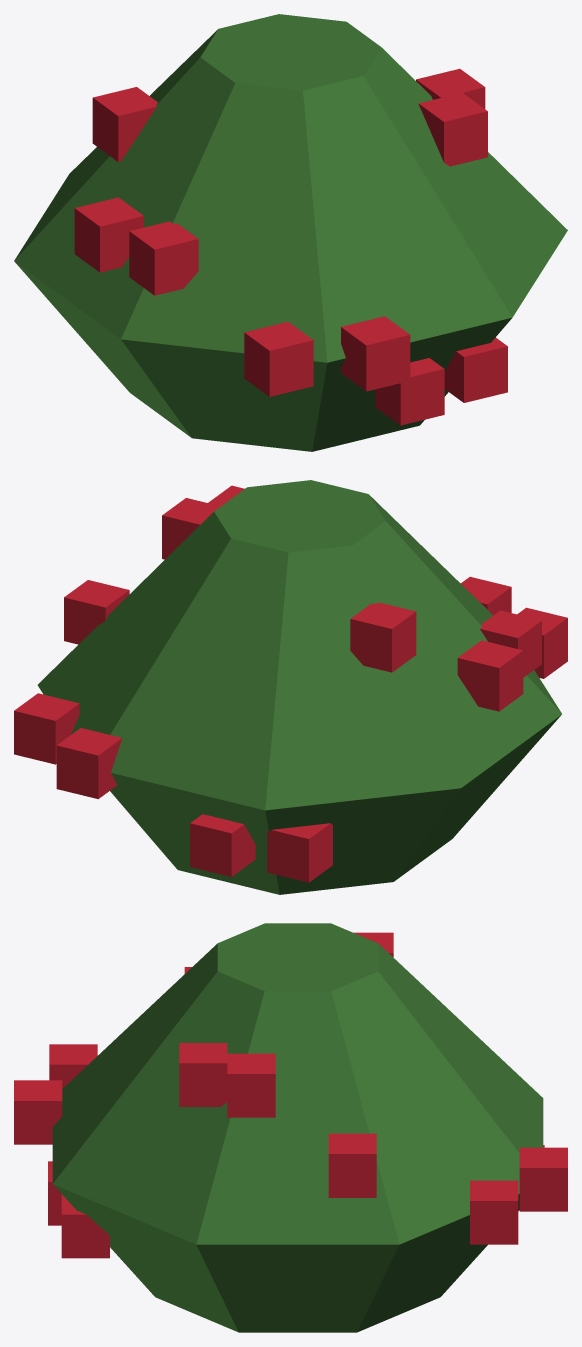
Rendered from berry_bush.obj.
3 renders of one model, top to bottom at view 1: azimuth 30°, elevation 25°; view 2: azimuth 150°, elevation 25°; view 3: azimuth 270°, elevation 25°, orthographic. The views are drawn at different scales.
Visible parts, largest first — view 1: Bush, Berries; view 2: Bush, Berries; view 3: Bush, Berries.
Part boxes in pixels (box(x1,y1,x2,y2)): Bush: box(14, 14, 567, 451); Berries: box(74, 68, 507, 425); Bush: box(37, 480, 561, 894); Berries: box(14, 485, 567, 882); Bush: box(52, 923, 543, 1332); Berries: box(14, 932, 567, 1258).
Bounding box in the file's own units: 1.02 × 0.72 × 1.15.
